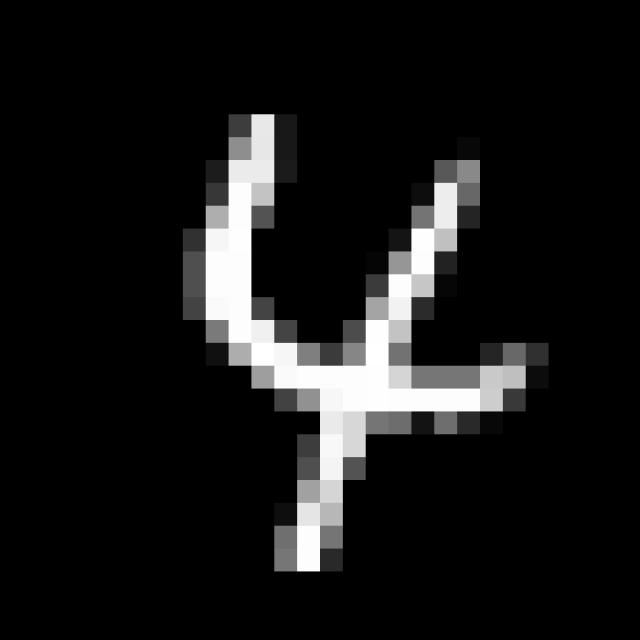four -4-: (165, 91, 564, 600)
